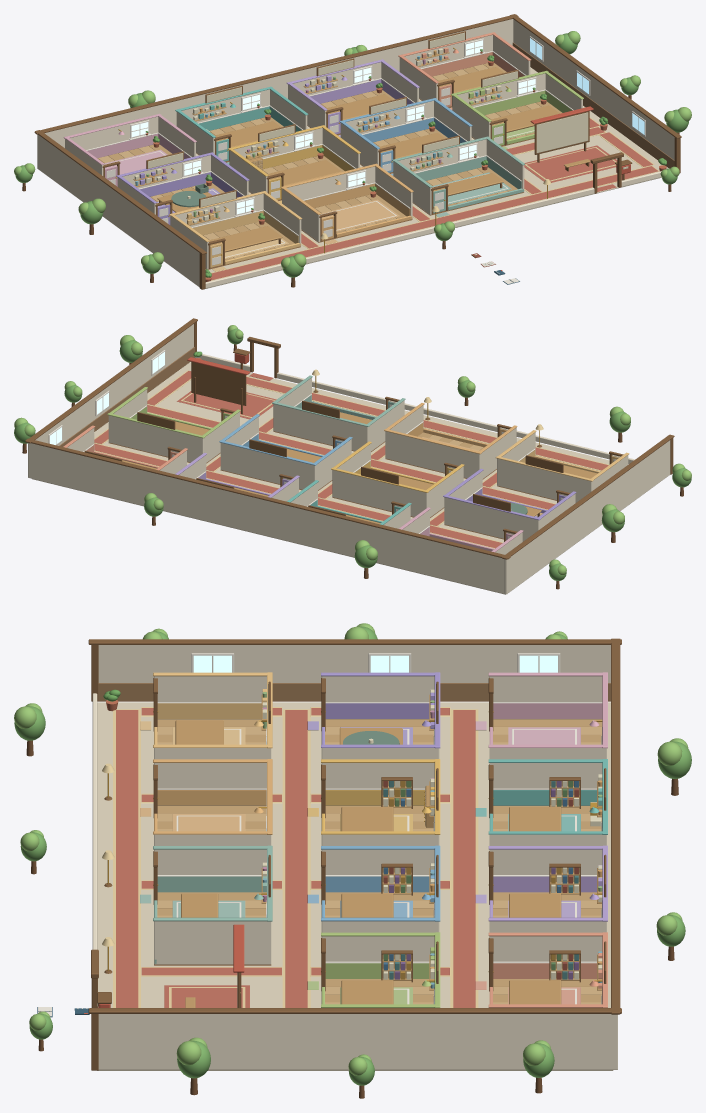
Rendered from mind-space.glb.
The picture shows the model from 3 angles, top to bottom: view 1: azimuth 30°, elevation 25°; view 2: azimuth 150°, elevation 25°; view 3: azimuth 270°, elevation 25°; orthographic projection. The views are drawn at different scales.
Parts seen in each view (by area): view 1: mind_outer_left, mind_outer_back, mind_hall_floor, mind_outer_right, mind_runner_h0, mind_outer_front_a, mind_outer_cap_back, mind_board_face, mind_outer_panel_right, mind_lobby_rug_in2, mind_outer_cap_right, mind_outer_cap_left (+54 smaller); view 2: mind_outer_back, mind_hall_floor, mind_outer_left, mind_outer_right, context_back, spare_mail_back, work2_back, work1_back, work0_back, roulette_back, output_back, mind_outer_cap_back (+24 smaller); view 3: mind_outer_right, mind_hall_floor, mind_outer_left, mind_runner_h0, mind_runner_h1, mind_runner_h2, context_right, mind_outer_cap_back, mind_outer_cap_right, mind_outer_cap_left, spare_candidates_left, spare_mail_left (+48 smaller).
Boxes of the visible parts, box(x1,y1,x2,y2) form: mind_outer_left: box(38, 135, 199, 287); mind_outer_back: box(37, 19, 513, 169); mind_hall_floor: box(196, 67, 668, 288); mind_outer_right: box(513, 19, 674, 160); mind_runner_h0: box(211, 166, 658, 280); mind_outer_front_a: box(205, 187, 594, 288); mind_outer_cap_back: box(34, 14, 518, 134); mind_board_face: box(536, 112, 588, 153); mind_outer_panel_right: box(512, 42, 674, 168); mind_lobby_rug_in2: box(527, 147, 615, 180); mind_outer_cap_right: box(510, 14, 681, 138); mind_outer_cap_left: box(35, 130, 206, 254); mind_outer_back: box(30, 443, 507, 593); mind_hall_floor: box(32, 362, 609, 594); mind_outer_left: box(504, 440, 670, 594); mind_outer_right: box(28, 324, 193, 477); context_back: box(273, 404, 367, 450); spare_mail_back: box(385, 431, 480, 478); work2_back: box(108, 415, 203, 462); work1_back: box(220, 443, 315, 489); work0_back: box(332, 470, 426, 516); roulette_back: box(444, 497, 539, 541); output_back: box(497, 459, 591, 502); mind_outer_cap_back: box(25, 438, 510, 559); mind_outer_right: box(98, 1014, 613, 1069); mind_hall_floor: box(97, 702, 613, 1070); mind_outer_left: box(98, 645, 610, 682); mind_runner_h0: box(116, 710, 138, 1007); mind_runner_h1: box(285, 710, 307, 1007); mind_runner_h2: box(453, 710, 475, 1007); context_right: box(154, 921, 270, 964); mind_outer_cap_back: box(611, 638, 620, 1014); mind_outer_cap_right: box(88, 1008, 621, 1013); mind_outer_cap_left: box(88, 639, 621, 644); spare_candidates_left: box(489, 676, 602, 719); spare_mail_left: box(154, 763, 266, 805).
Bounding box in the file's own units: 55.48 × 8.99 × 36.38.
